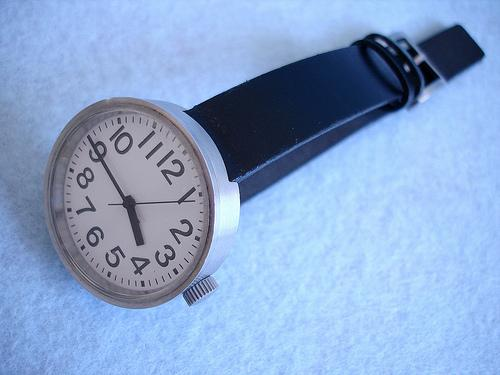watch: (41, 89, 247, 318)
